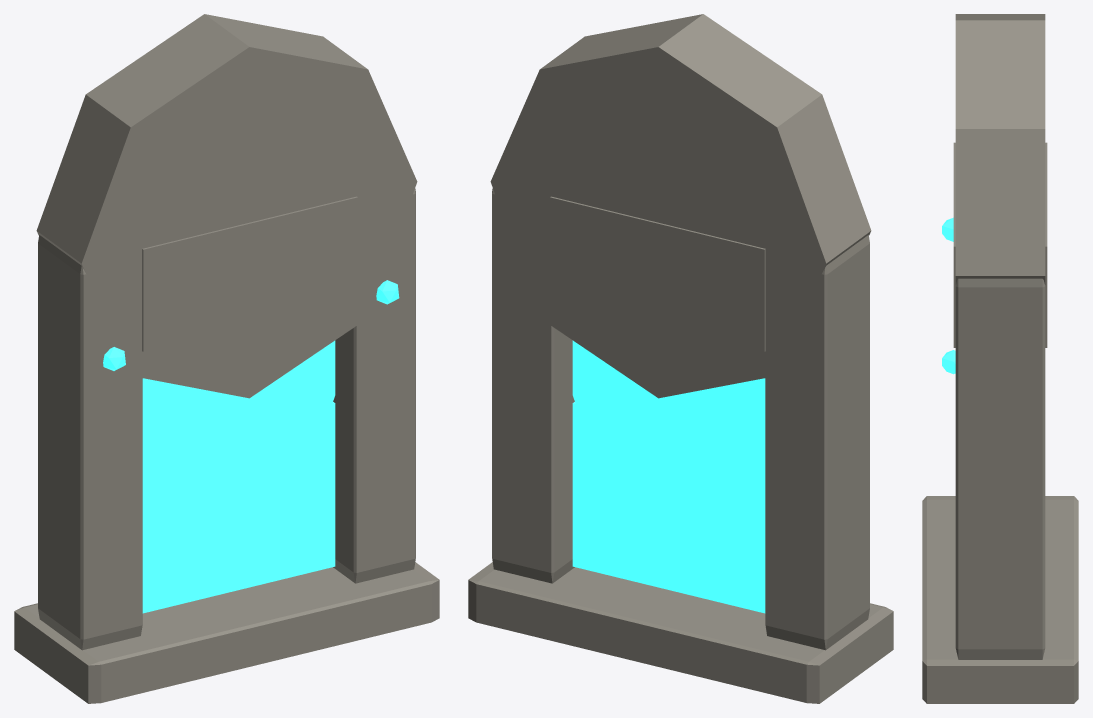
Rendered from stone-portal-lod1.glb.
3 renders of one model, left to right at view 1: azimuth 30°, elevation 25°; view 2: azimuth 150°, elevation 25°; view 3: azimuth 270°, elevation 25°, orthographic.
Visible parts, largest first — view 1: stone-portal; view 2: stone-portal; view 3: stone-portal.
Boxes of the visible parts, left/top/right/bottom form: stone-portal: left=14, top=14, right=439, bottom=703; stone-portal: left=468, top=14, right=893, bottom=703; stone-portal: left=922, top=14, right=1078, bottom=703.
Bounding box in the file's own units: 1.8 × 2.96 × 0.7.
